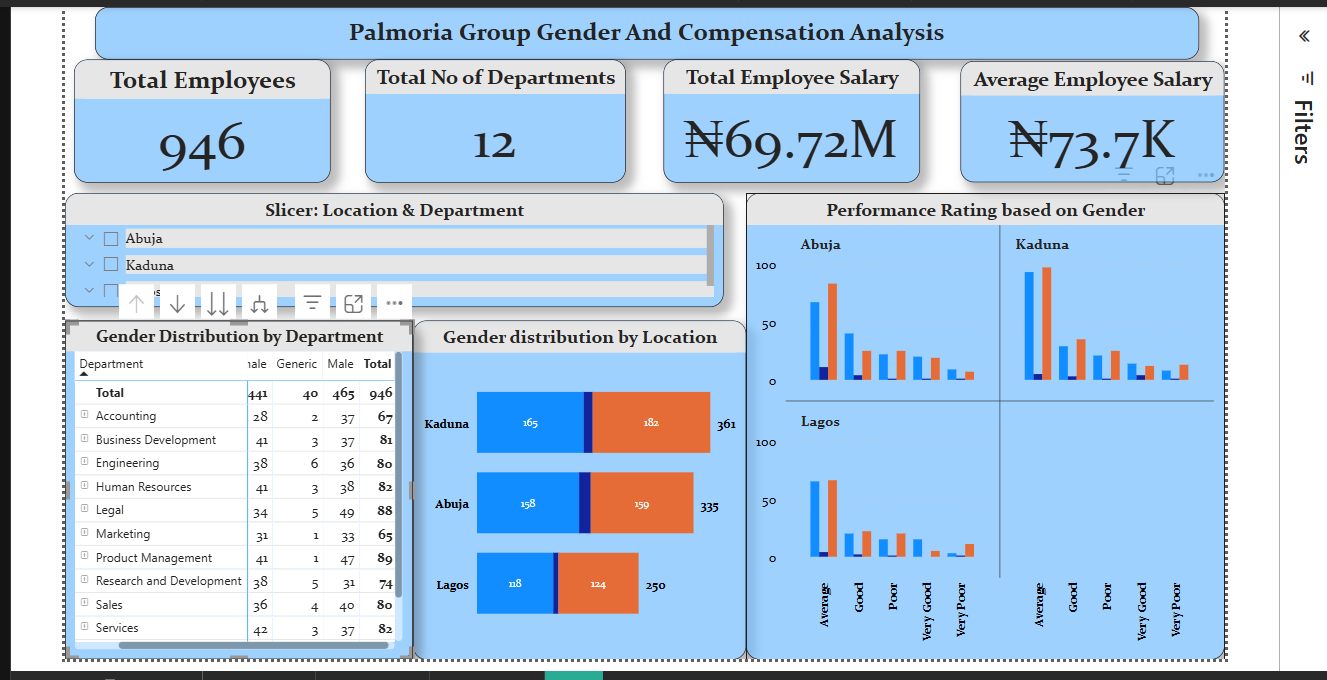

This screenshot's page, from the dashboard's own definition file:
{"tool":"powerbi","page":{"name":"Page 1","canvas":[1280,720],"ordinal":0},"visuals":[{"type":"textbox","box":[33.1,0,1219.2,58],"z":0},{"type":"card","title":"Total Employees","fields":{"Values":["Palmoria Group emp-data.Name"]},"box":[9.9,58,283.3,135.8],"z":1000},{"type":"card","title":"Total No of Departments","fields":{"Values":["Palmoria Group emp-data.Department"]},"box":[331.3,58,288.2,135.8],"z":2000},{"type":"card","title":"Total Employee Salary","fields":{"Values":["Palmoria Group emp-data.Salary"]},"box":[660.9,58,283.3,135.8],"z":3000},{"type":"pivotTable","title":"Gender Distribution by Department","fields":{"Rows":["Palmoria Group emp-data.Department","Palmoria Group emp-data.Location"],"Columns":["Palmoria Group emp-data.Gender"],"Values":["Palmoria Group emp-data.Name"]},"box":[0,346.2,384.3,374.4],"z":4000},{"type":"barChart","title":"Gender distribution by Location","fields":{"Category":["Palmoria Group emp-data.Location"],"Series":["Palmoria Group emp-data.Gender"],"Y":["Palmoria Group emp-data.Name"]},"box":[384.3,346.2,367.7,374.4],"z":5000},{"type":"clusteredColumnChart","title":"Performance Rating based on Gender","fields":{"Category":["Palmoria Group emp-data.Rating"],"Y":["Palmoria Group emp-data.Name"],"Series":["Palmoria Group emp-data.Gender"],"Rows":["Palmoria Group emp-data.Location"]},"box":[752,205.4,528.4,515.2],"z":6000},{"type":"slicer","title":"Slicer: Location & Department","fields":{"Values":["Palmoria Group emp-data.Location","Palmoria Group emp-data.Department"]},"box":[0,205.4,727.2,125.9],"z":7000},{"type":"card","title":"Average Employee Salary","fields":{"Values":["Palmoria Group emp-data.Salary"]},"box":[988.9,59.6,291.5,134.2],"z":8000}]}

Visuals, with their boxes on the page's 1280x720 design canvas (x1, y1, x2, y2). These are canvas units, not pixel positions in the 1327x680 screenshot, which may show the page scaled, cropped or inside an application window:
textbox: bbox(33, 0, 1252, 58)
"Total Employees" card: bbox(10, 58, 293, 194)
"Total No of Departments" card: bbox(331, 58, 620, 194)
"Total Employee Salary" card: bbox(661, 58, 944, 194)
"Gender Distribution by Department" pivotTable: bbox(0, 346, 384, 721)
"Gender distribution by Location" barChart: bbox(384, 346, 752, 721)
"Performance Rating based on Gender" clusteredColumnChart: bbox(752, 205, 1280, 721)
"Slicer: Location & Department" slicer: bbox(0, 205, 727, 331)
"Average Employee Salary" card: bbox(989, 60, 1280, 194)
